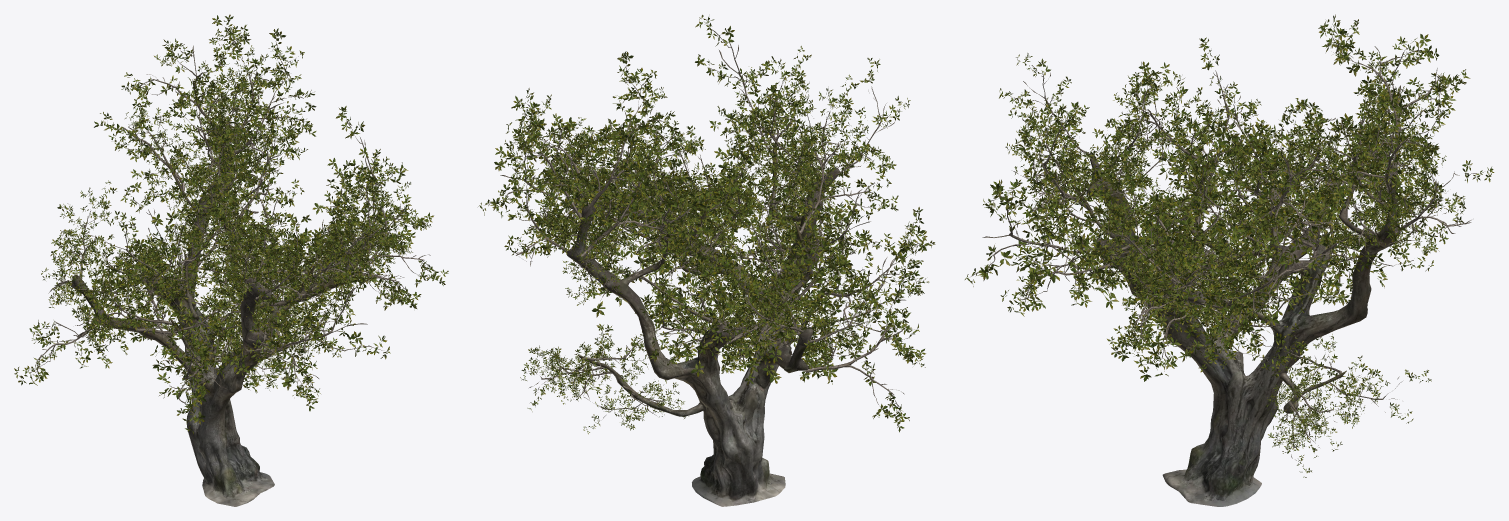
File: island_tree_01.glb
3 views of the same model, side by side, from view 1: azimuth 30°, elevation 25°; view 2: azimuth 150°, elevation 25°; view 3: azimuth 270°, elevation 25° (orthographic). The views are drawn at different scales.
Parts seen in each view (by area): view 1: island_tree_01_LOD0; view 2: island_tree_01_LOD0; view 3: island_tree_01_LOD0.
Boxes of the visible parts, left/top/right/bottom form: island_tree_01_LOD0: left=14, top=14, right=448, bottom=506; island_tree_01_LOD0: left=478, top=15, right=935, bottom=506; island_tree_01_LOD0: left=965, top=14, right=1494, bottom=506.
Bounding box in the file's own units: 4.76 × 5.02 × 4.82.
Materials: 3 (3 with a texture image).
